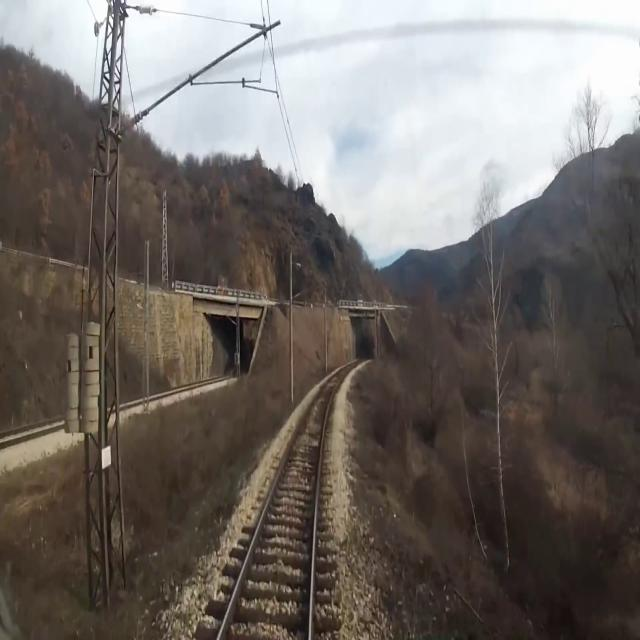rail-track: (220, 371, 343, 639), (0, 424, 46, 438)
